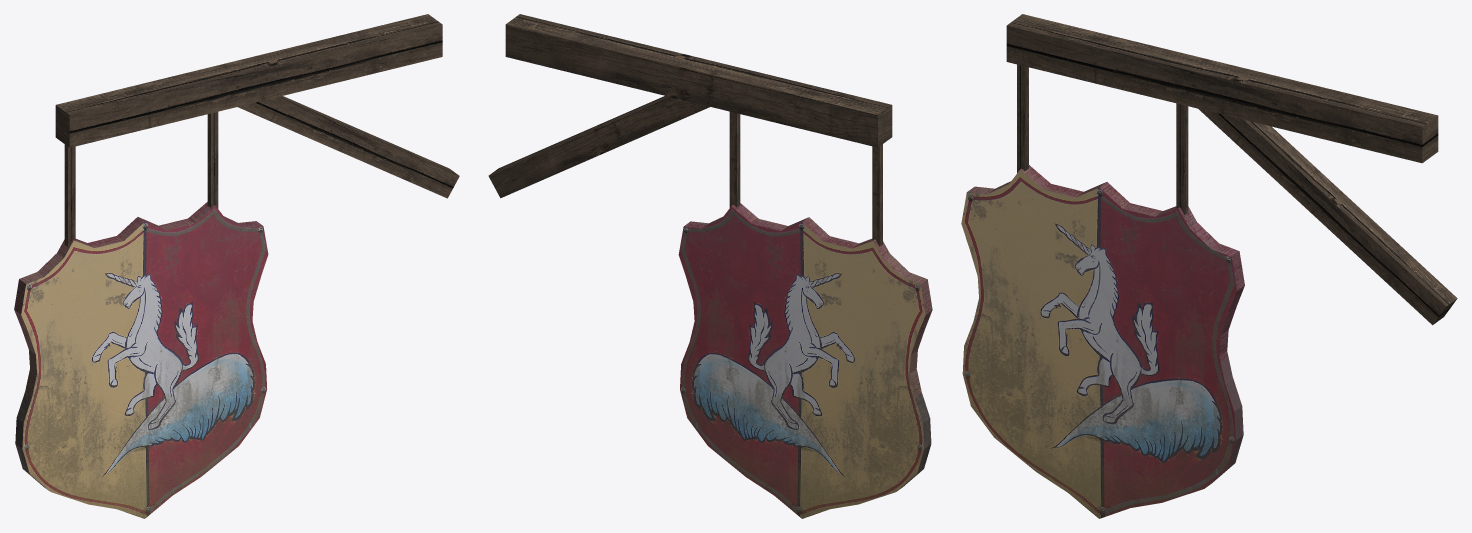
Rendered from f1_shield01.dae.
3 views of the same model, side by side, from view 1: azimuth 30°, elevation 25°; view 2: azimuth 150°, elevation 25°; view 3: azimuth 330°, elevation 25° (orthographic). The views are drawn at different scales.
Parts seen in each view (by area): view 1: f1_shield01_Layer1; view 2: f1_shield01_Layer1; view 3: f1_shield01_Layer1.
Boxes of the visible parts, box(x1,y1,x2,y2) form: f1_shield01_Layer1: box(14, 14, 459, 518); f1_shield01_Layer1: box(488, 14, 932, 518); f1_shield01_Layer1: box(961, 14, 1457, 518).
Size of the model in its own units: 1.19 by 1.11 by 0.0671.
